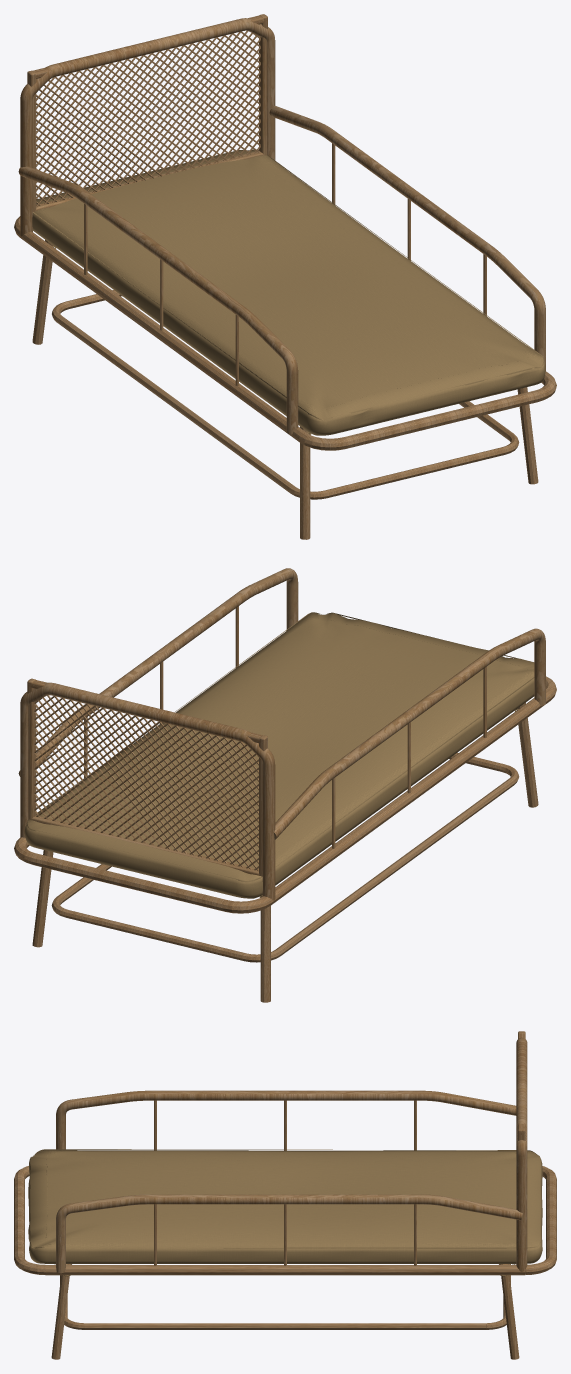
The model's file is designed-sunroom-chaise.glb.
The picture shows the model from 3 angles, top to bottom: view 1: azimuth 30°, elevation 25°; view 2: azimuth 150°, elevation 25°; view 3: azimuth 270°, elevation 25°; orthographic projection. The views are drawn at different scales.
Visible parts, largest first — view 1: catalog_surface_UVMap, catalog_surface_RealismUV; view 2: catalog_surface_UVMap, catalog_surface_RealismUV; view 3: catalog_surface_UVMap, catalog_surface_RealismUV.
Boxes of the visible parts, x1,y1,x2,y2 form: catalog_surface_UVMap: (14, 14, 556, 539); catalog_surface_RealismUV: (33, 149, 544, 420); catalog_surface_UVMap: (14, 568, 556, 1002); catalog_surface_RealismUV: (27, 612, 534, 882); catalog_surface_UVMap: (14, 1031, 556, 1359); catalog_surface_RealismUV: (30, 1149, 540, 1248).
Bounding box in the file's own units: 0.8 × 0.8 × 1.7.
4 materials, 3 textured.
